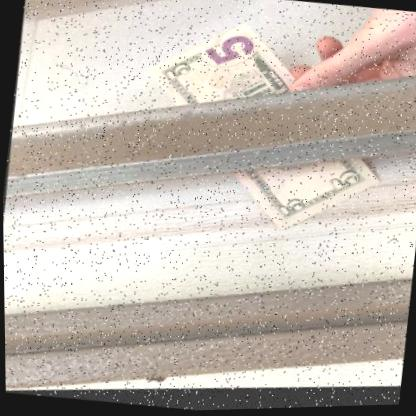dollar_back: (145, 27, 377, 238)
